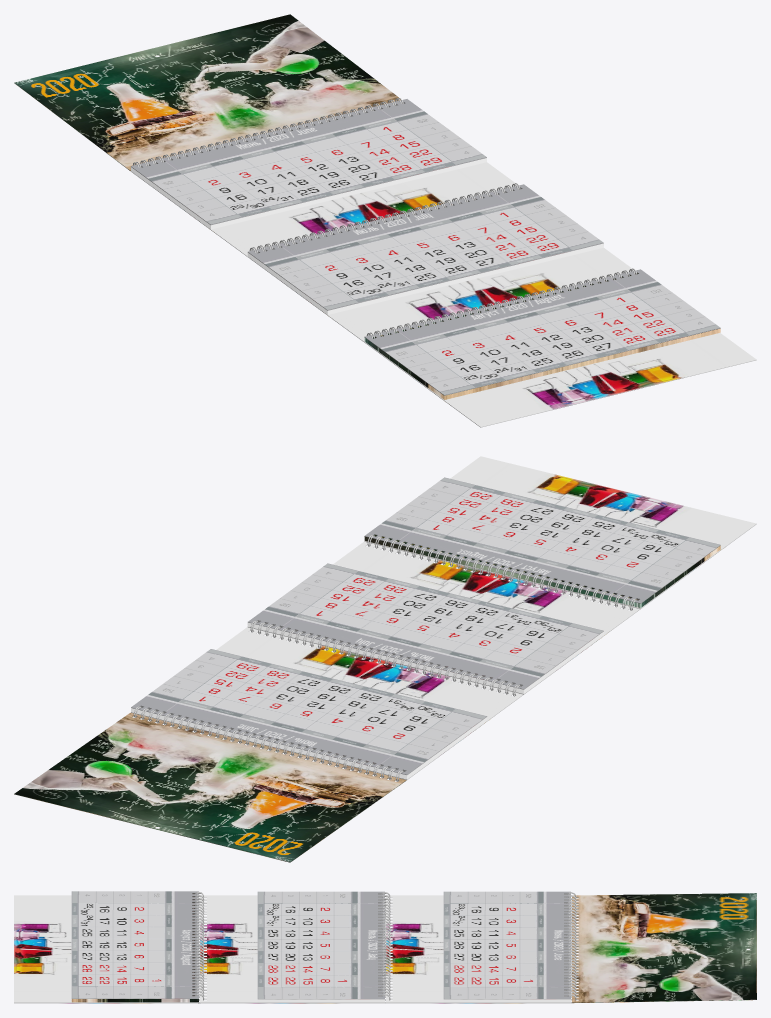
The model's file is kalendar.FBX.
The picture shows the model from 3 angles, top to bottom: view 1: azimuth 30°, elevation 25°; view 2: azimuth 150°, elevation 25°; view 3: azimuth 270°, elevation 25°; orthographic projection. The views are drawn at different scales.
Parts seen in each view (by area): view 1: 3dSolid12, 3dSolid05, 3dSolid02, 3dSolid11, 3dSolid13, 3dSolid06, 3dSolid07, 3dSolid09, 3dSolid08, 3dSolid10, 3dSolid03, 3dSolid01 (+1 smaller); view 2: 3dSolid12, 3dSolid05, 3dSolid02, 3dSolid11, 3dSolid13, 3dSolid07, 3dSolid06, 3dSolid08, 3dSolid10, 3dSolid09, 3dSolid03, 3dSolid04 (+1 smaller); view 3: 3dSolid12, 3dSolid05, 3dSolid02, 3dSolid11, 3dSolid13, 3dSolid06, 3dSolid07, 3dSolid03, 3dSolid01, 3dSolid04, 3dSolid08, 3dSolid09 (+1 smaller).
Part boxes in pixels (x1,y1,x2,y2): 3dSolid12: (14, 14, 400, 170); 3dSolid05: (131, 99, 486, 224); 3dSolid02: (248, 184, 603, 310); 3dSolid11: (364, 269, 720, 395); 3dSolid13: (364, 333, 756, 427); 3dSolid06: (130, 162, 517, 256); 3dSolid07: (248, 247, 634, 341); 3dSolid09: (247, 187, 603, 314); 3dSolid08: (131, 102, 486, 229); 3dSolid10: (364, 273, 720, 399); 3dSolid03: (249, 183, 520, 253); 3dSolid01: (132, 98, 403, 167); 3dSolid12: (14, 712, 406, 862); 3dSolid05: (131, 649, 486, 774); 3dSolid02: (248, 563, 603, 689); 3dSolid11: (364, 477, 720, 603); 3dSolid13: (364, 456, 756, 609); 3dSolid07: (248, 542, 640, 694); 3dSolid06: (131, 627, 522, 779); 3dSolid08: (131, 706, 486, 779); 3dSolid10: (364, 534, 720, 607); 3dSolid09: (247, 620, 603, 693); 3dSolid03: (250, 621, 520, 696); 3dSolid04: (367, 535, 637, 610); 3dSolid12: (572, 893, 756, 1003); 3dSolid05: (443, 891, 570, 999); 3dSolid02: (257, 891, 384, 999); 3dSolid11: (71, 891, 198, 998); 3dSolid13: (14, 895, 198, 1003); 3dSolid06: (386, 895, 570, 1003); 3dSolid07: (200, 895, 384, 1003); 3dSolid03: (380, 892, 390, 1003); 3dSolid01: (566, 892, 576, 1003); 3dSolid04: (194, 891, 204, 1003); 3dSolid08: (443, 893, 570, 1002); 3dSolid09: (257, 893, 384, 1002).
Bounding box in the file's own units: 29.51 × 1.21 × 86.3.
5 materials, 5 textured.
